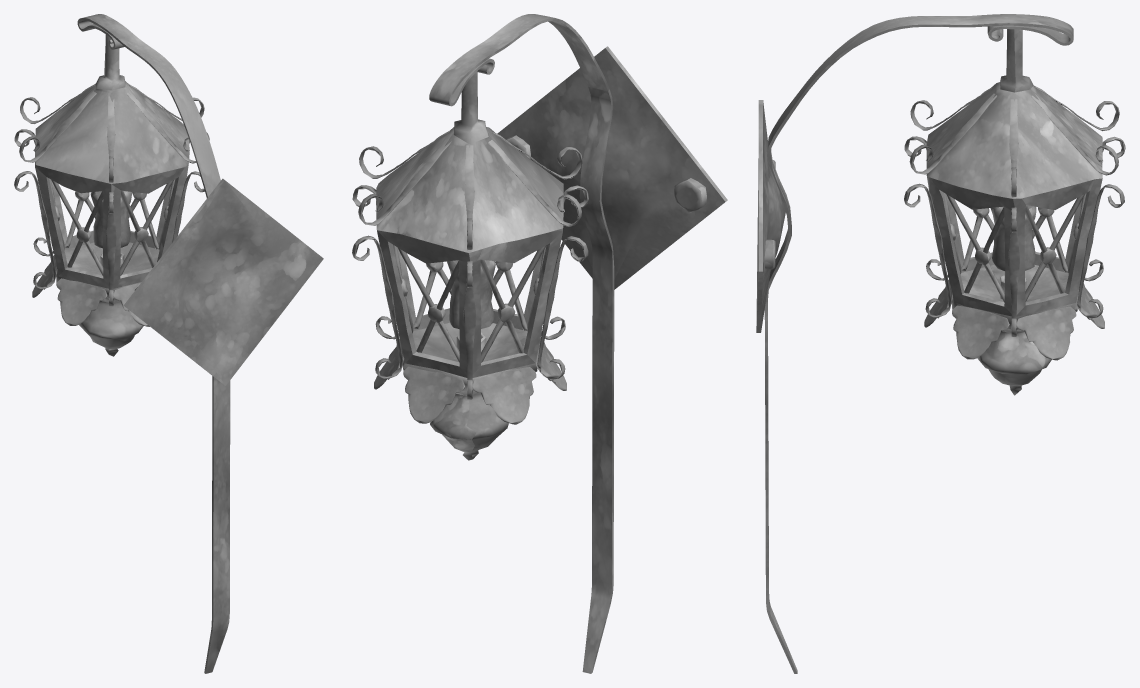
The model's file is SM_StreetLantern_01a.fbx.
3 renders of one model, left to right at view 1: azimuth 30°, elevation 25°; view 2: azimuth 150°, elevation 25°; view 3: azimuth 270°, elevation 25°, orthographic. The views are drawn at different scales.
Parts seen in each view (by area): view 1: SM_StreetLantern_01a_LOD0; view 2: SM_StreetLantern_01a_LOD0; view 3: SM_StreetLantern_01a_LOD0.
Boxes of the visible parts, left/top/right/bottom form: SM_StreetLantern_01a_LOD0: left=14, top=14, right=323, bottom=673; SM_StreetLantern_01a_LOD0: left=352, top=14, right=727, bottom=673; SM_StreetLantern_01a_LOD0: left=756, top=14, right=1125, bottom=673.
Size of the model in its own units: 45.78 by 65.1 by 127.
